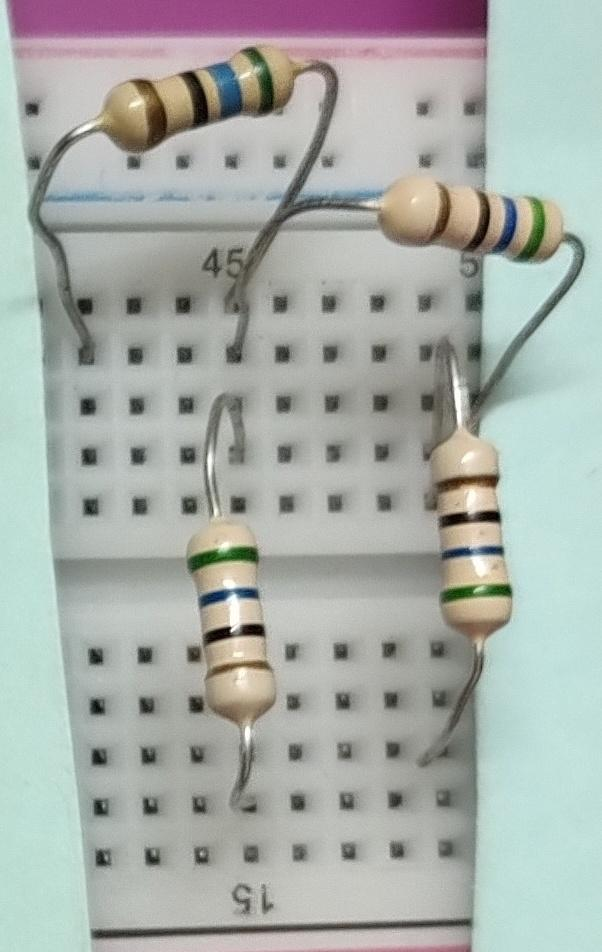resistor: (90, 38, 300, 168), (412, 412, 522, 642), (368, 160, 570, 280), (180, 510, 290, 725)
